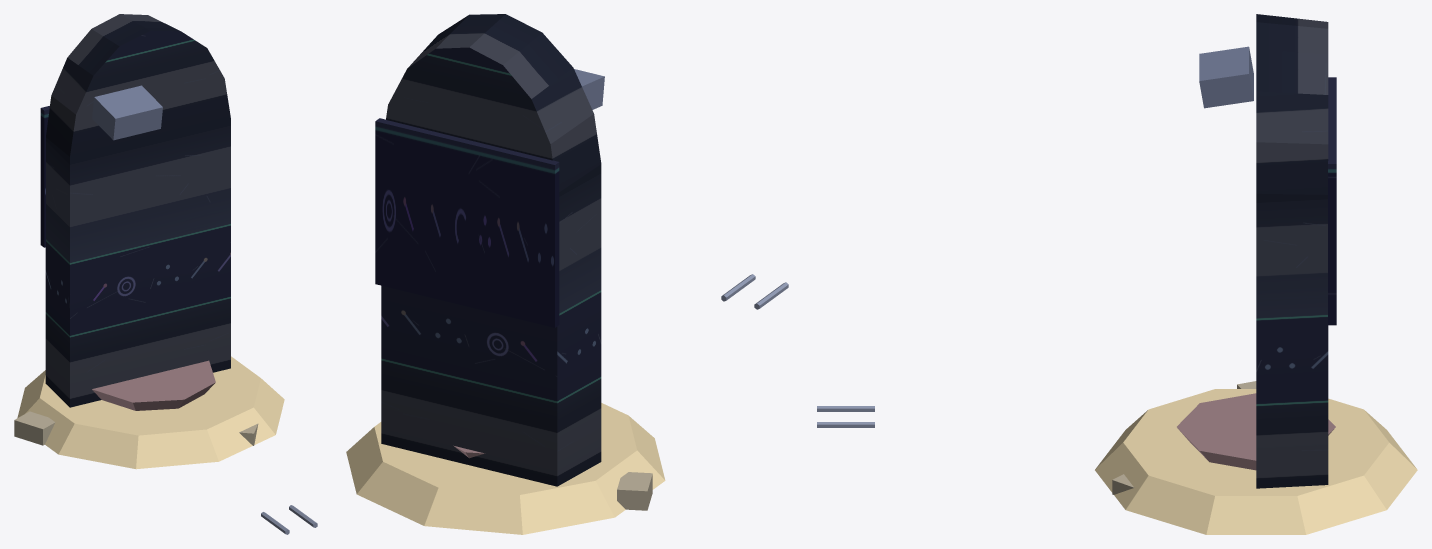
The model's file is prp_monolith_a.glb.
3 views of the same model, side by side, from view 1: azimuth 30°, elevation 25°; view 2: azimuth 150°, elevation 25°; view 3: azimuth 270°, elevation 25° (orthographic). The views are drawn at different scales.
Visible parts, largest first — view 1: lod0__monolith_slab, lod0__monolith_foot, lod0__monolith_patch, lod0__monolith_glyphs; view 2: lod0__monolith_slab, lod0__monolith_glyphs, lod0__monolith_foot, lod0__monolith_patch; view 3: lod0__monolith_slab, lod0__monolith_foot, lod0__monolith_patch, lod0__monolith_glyphs.
Part boxes in pixels (left/top/right/bottom): lod0__monolith_slab: left=45, top=14, right=230, bottom=407; lod0__monolith_foot: left=14, top=356, right=284, bottom=469; lod0__monolith_patch: left=92, top=85, right=317, bottom=534; lod0__monolith_glyphs: left=40, top=106, right=49, bottom=247; lod0__monolith_slab: left=381, top=14, right=601, bottom=486; lod0__monolith_glyphs: left=375, top=118, right=559, bottom=327; lod0__monolith_foot: left=346, top=403, right=665, bottom=534; lod0__monolith_patch: left=574, top=69, right=788, bottom=309; lod0__monolith_slab: left=1256, top=14, right=1328, bottom=488; lod0__monolith_foot: left=1095, top=381, right=1417, bottom=534; lod0__monolith_patch: left=817, top=46, right=1253, bottom=427; lod0__monolith_glyphs: left=1328, top=77, right=1336, bottom=325.
Size of the model in its own units: 1.72 by 2.6 by 3.16.
4 materials, 2 textured.
